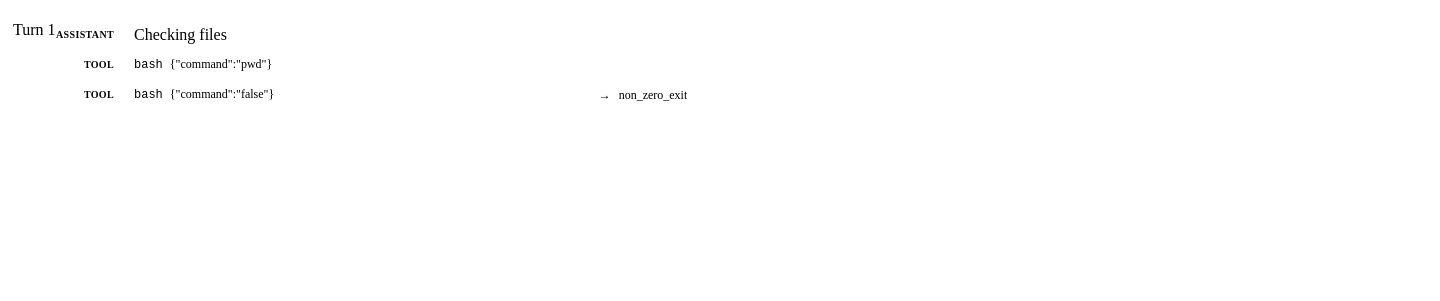
Test: TrajectoryTable › shows assistant timing facts after keyboard selection
Press Enter in the row "Turn 1 ASSISTANT Checking files", box [8,20,1432,50]
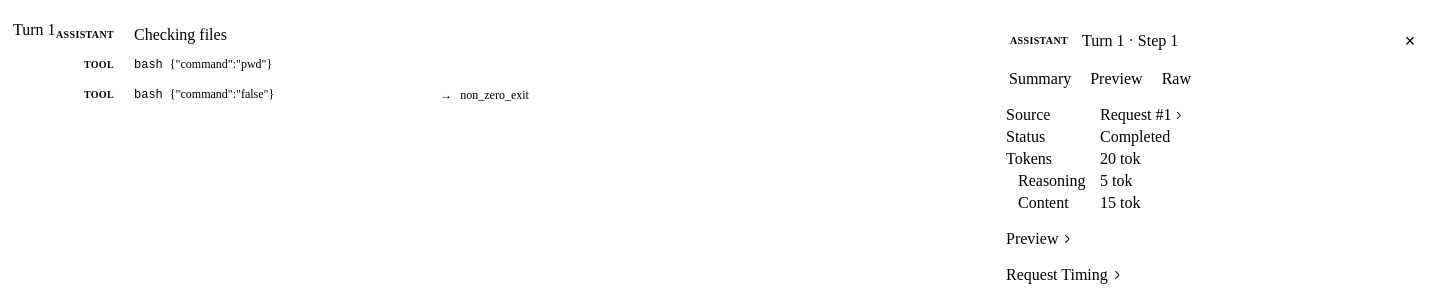
Click the button "Request Timing".
click(1064, 275)  # box [1006,267,1123,283]
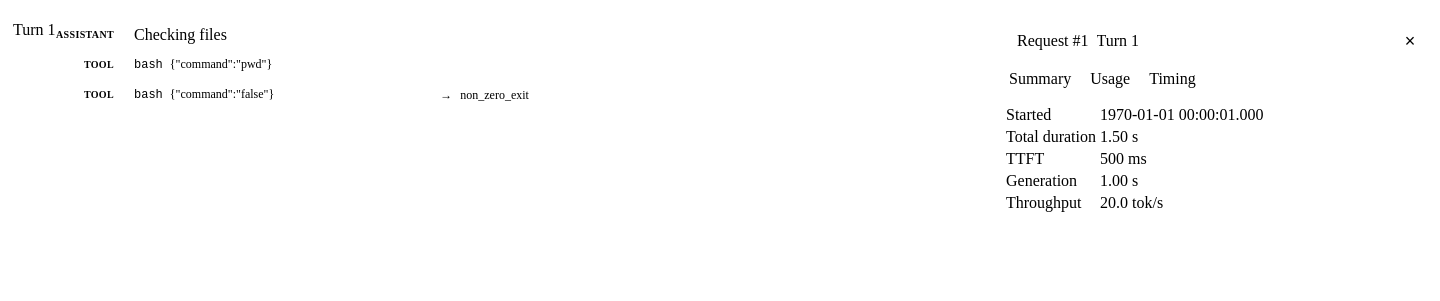
Now the text "500 ms" is shown, box [1100,150,1147,167]
Now the text "1.00 s" is shown, box [1100,172,1138,189]
Now the text "20.0 tok/s" is shown, box [1100,194,1163,211]
